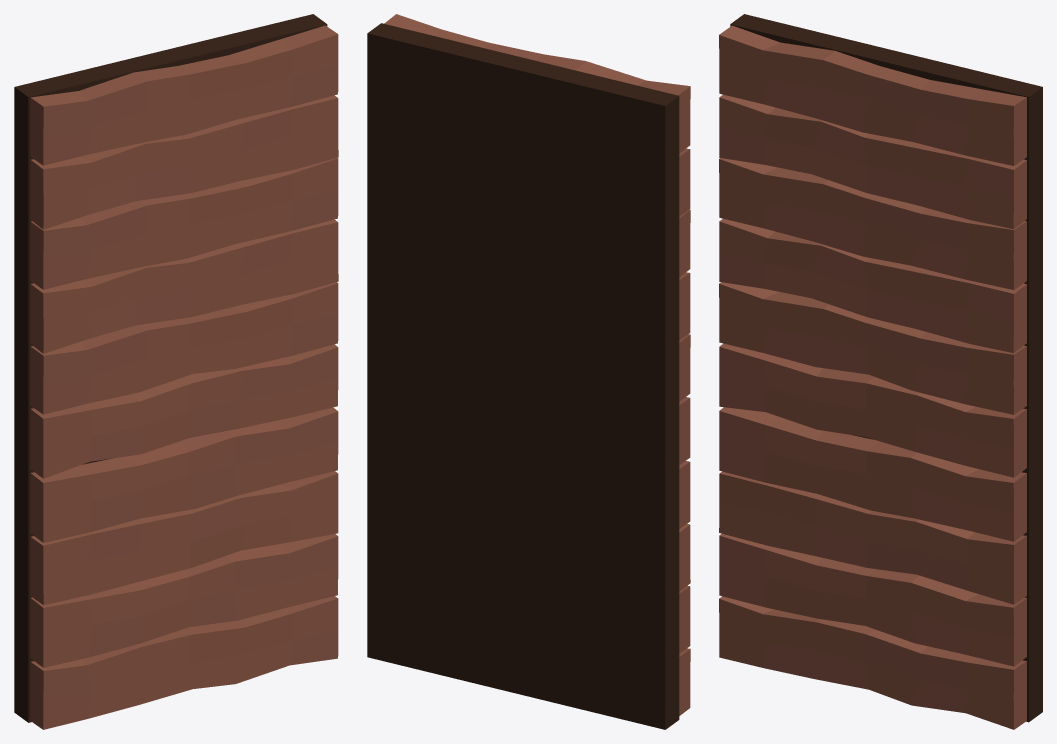
Rendered from wall_wst_Side.glb.
The picture shows the model from 3 angles, left to right: view 1: azimuth 30°, elevation 25°; view 2: azimuth 150°, elevation 25°; view 3: azimuth 330°, elevation 25°; orthographic projection.
Parts seen in each view (by area): view 1: Cube.018, Cube.015; view 2: Cube.015, Cube.018; view 3: Cube.018, Cube.015.
Part boxes in pixels (x1,y1,x2,y2): Cube.018: (30,25,338,729); Cube.015: (14,14,327,722); Cube.015: (367,23,679,729); Cube.018: (384,14,690,715); Cube.018: (719,25,1026,729); Cube.015: (730,14,1042,722).
Size of the model in its own units: 1 by 2 by 0.1578.
